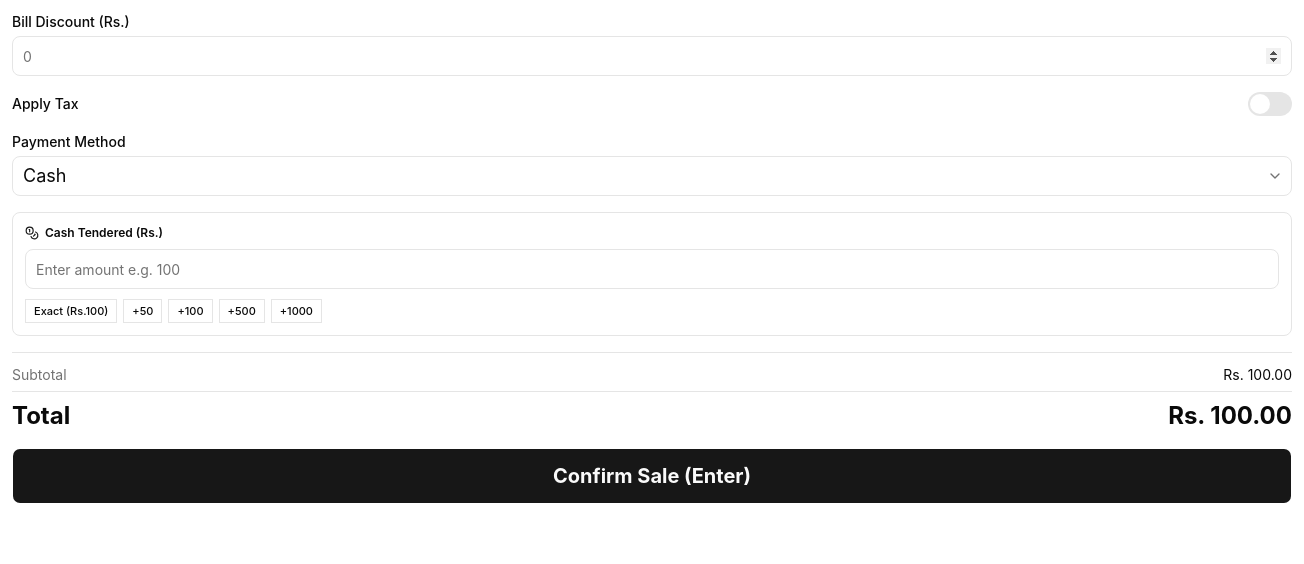
Test case: POSPaymentForm Component › calculates change due when cash tendered exceeds total
This screenshot has width=1304, height=564.
In the number field labelled "Cash Tendered (Rs.)": (652, 269) x1=25 y1=249 x2=1279 y2=289, type "150"
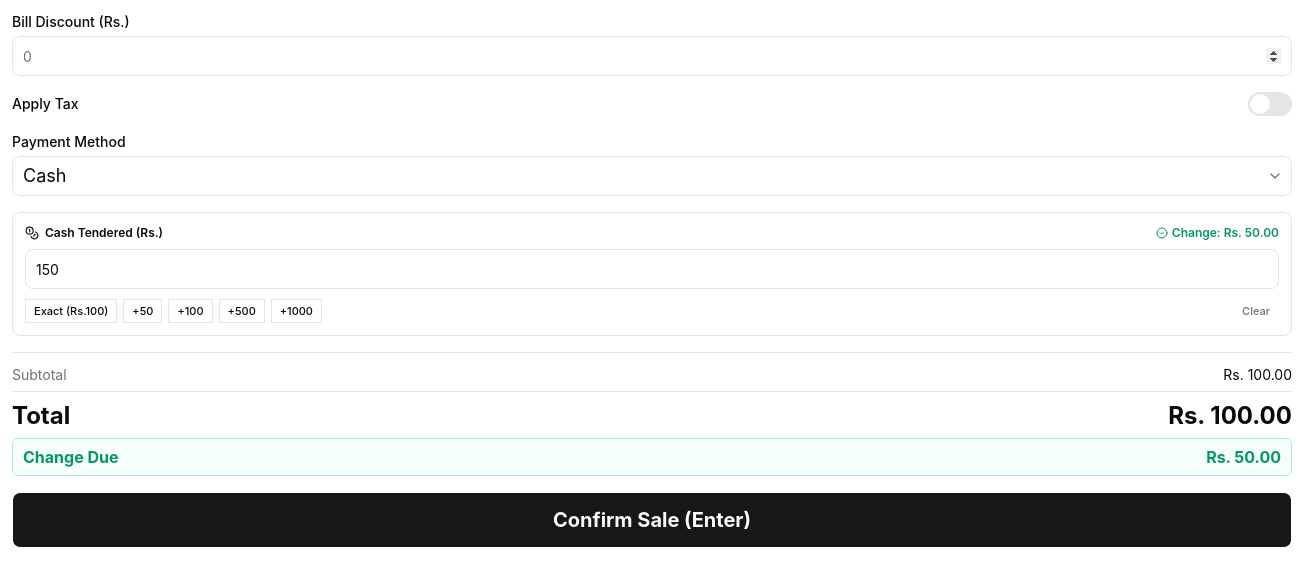
Check: the text "Change: Rs. 50.00" is shown, box x1=1156 y1=225 x2=1279 y2=241
